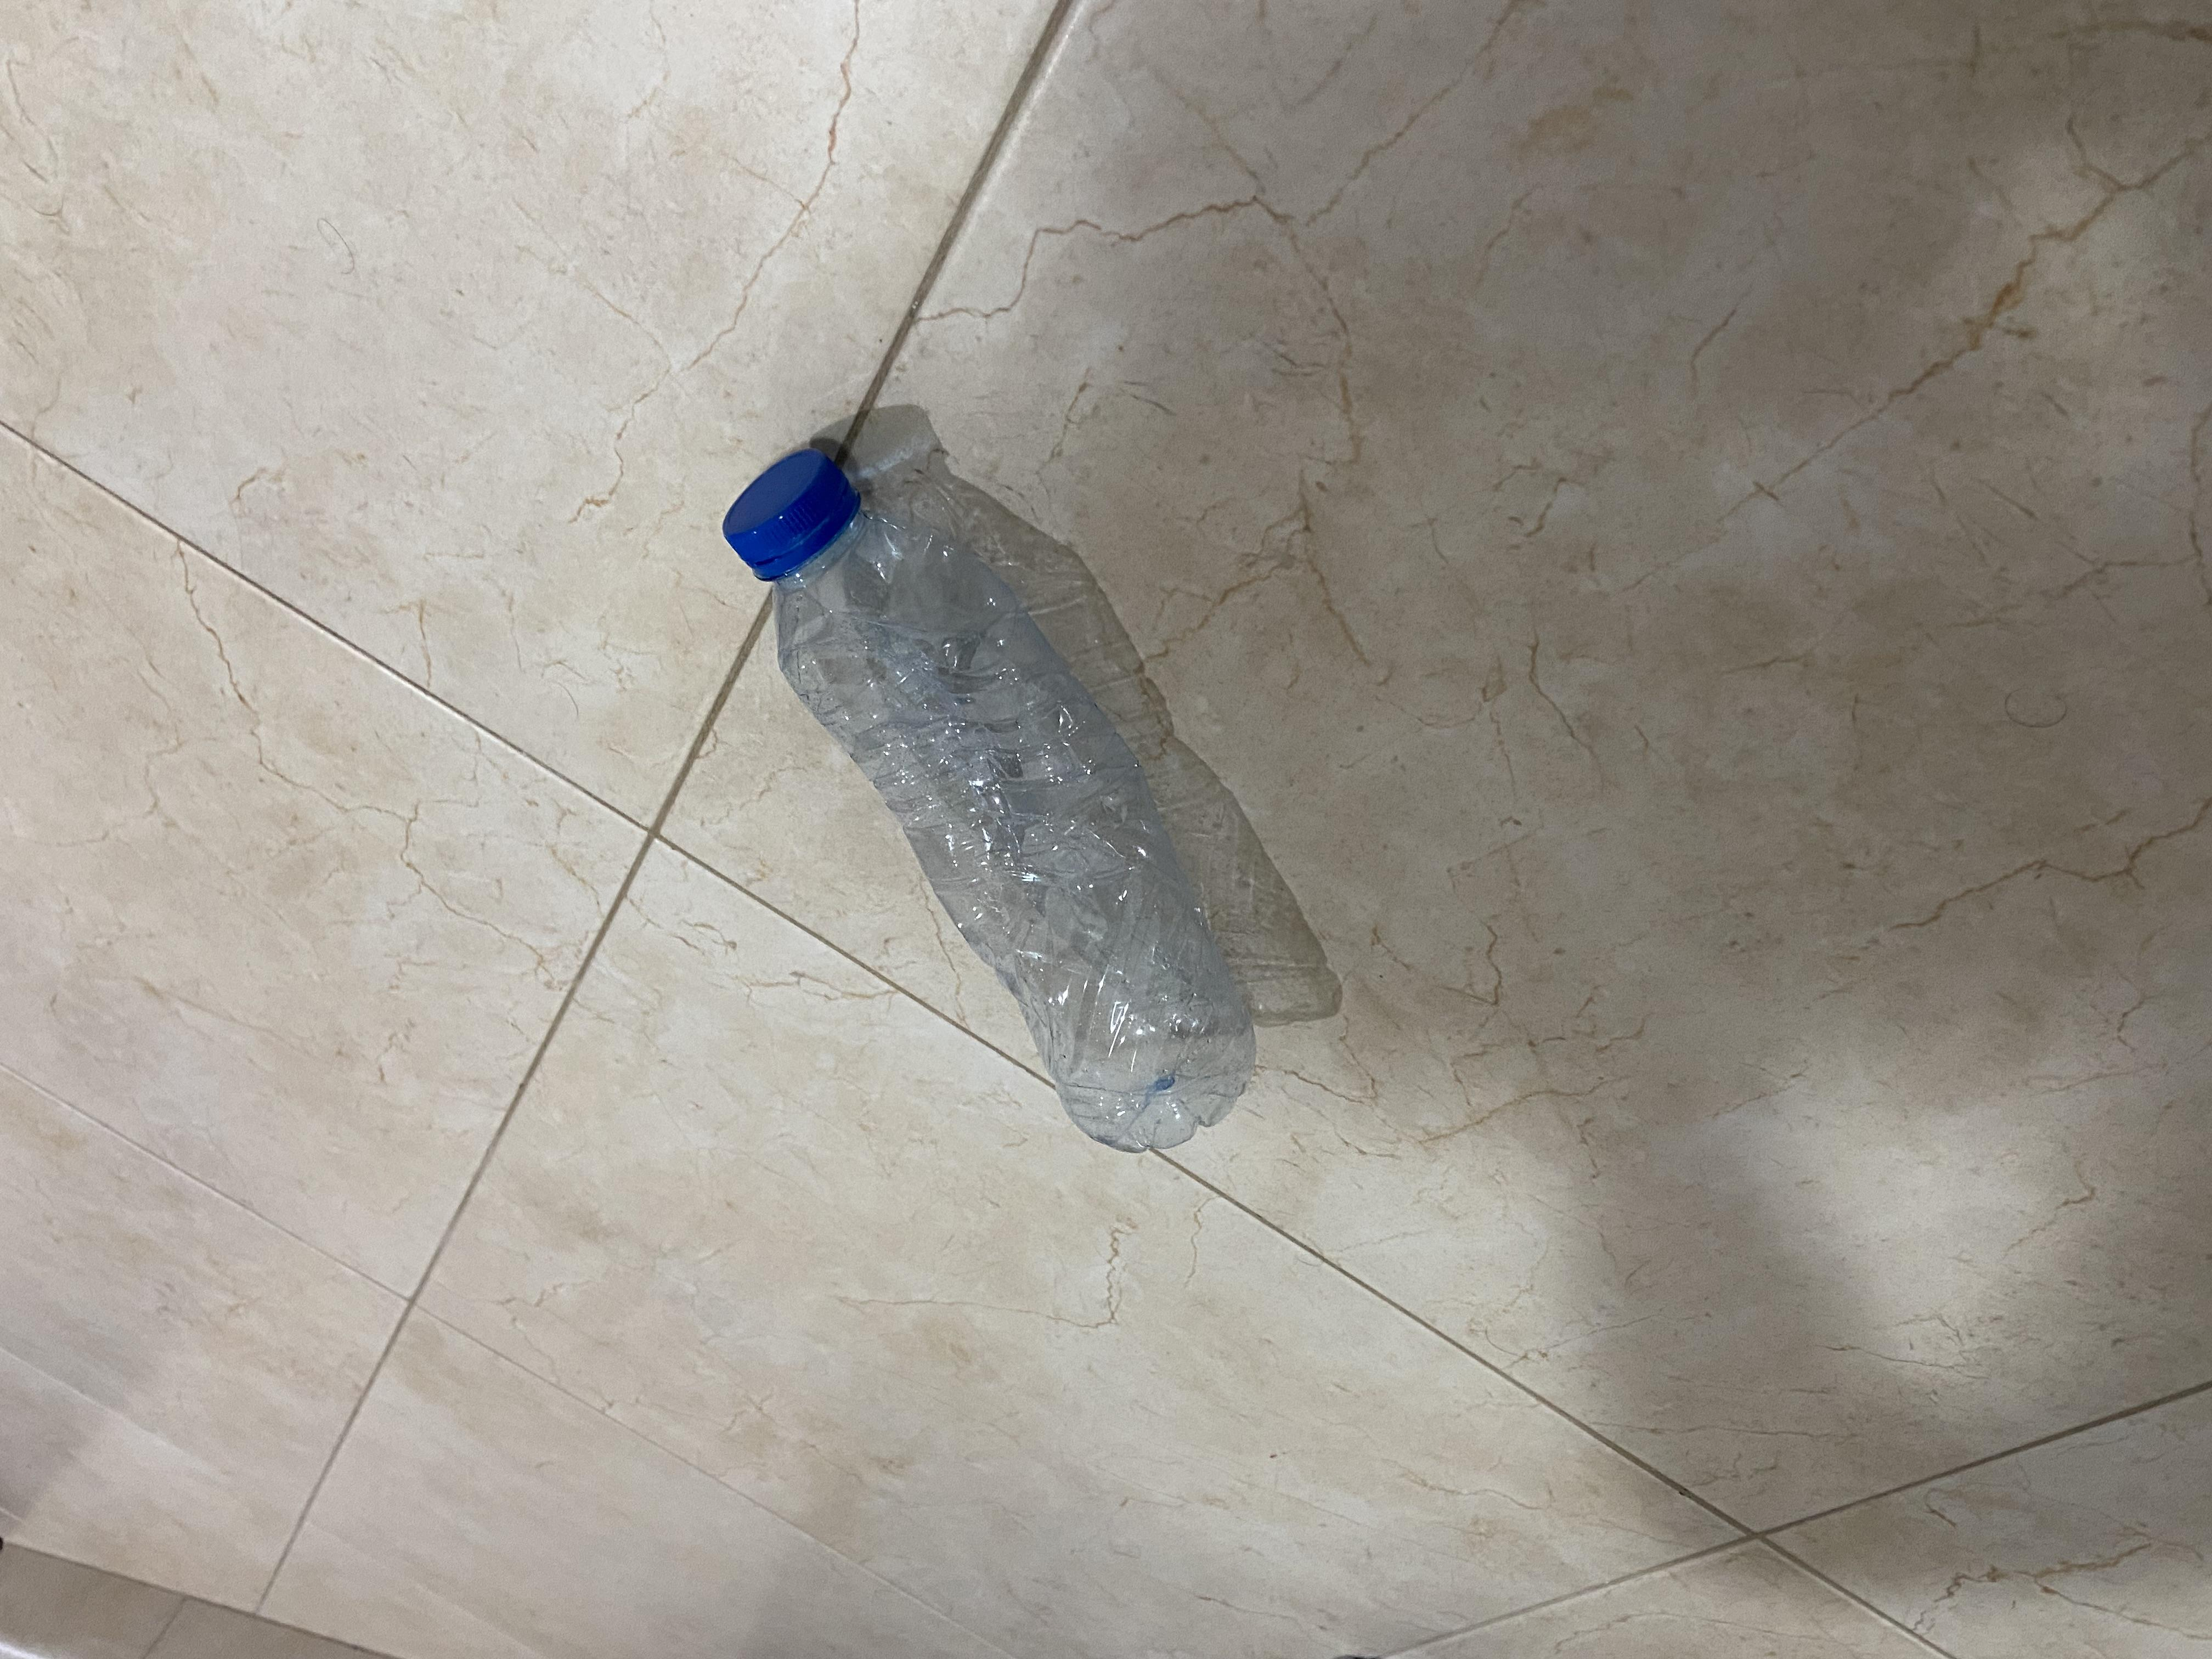bottle: (664, 544, 1613, 967)
